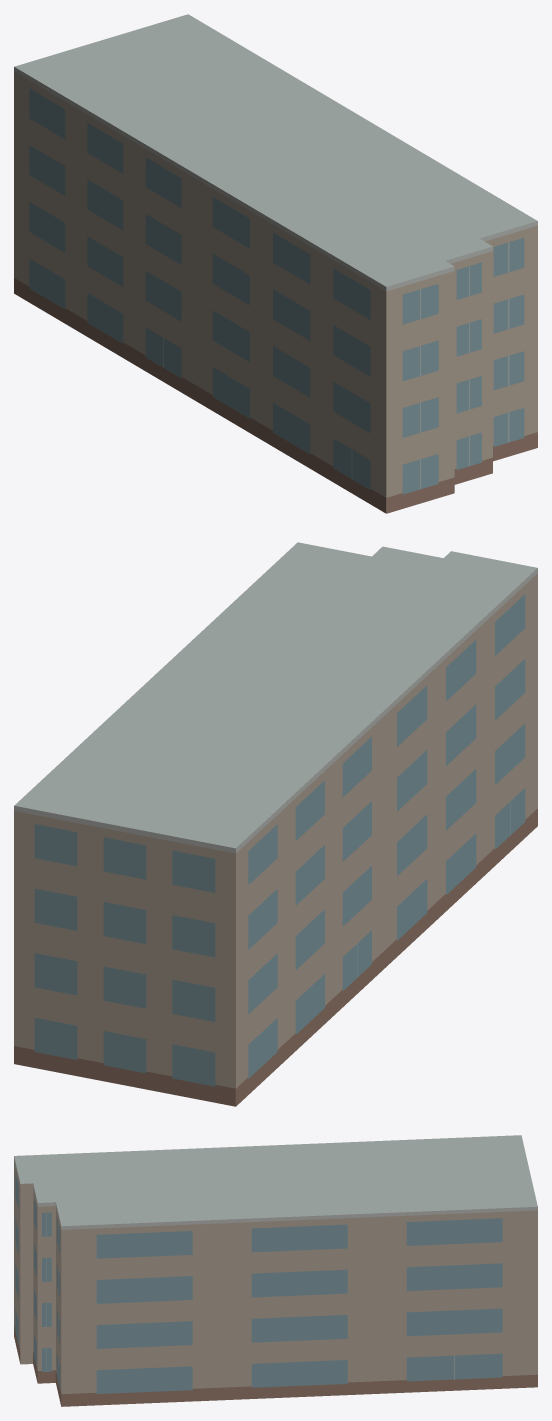
The model's file is residential-3db67e10-c1f7-46e1-94a3-698d9ae515b5.glb.
The picture shows the model from 3 angles, top to bottom: view 1: azimuth 30°, elevation 25°; view 2: azimuth 150°, elevation 25°; view 3: azimuth 270°, elevation 25°; orthographic projection. The views are drawn at different scales.
Parts seen in each view (by area): view 1: residential-3db67e10-c1f7-46e1-94a3-698d9ae515b5.tmp; view 2: residential-3db67e10-c1f7-46e1-94a3-698d9ae515b5.tmp; view 3: residential-3db67e10-c1f7-46e1-94a3-698d9ae515b5.tmp.
Part boxes in pixels (x1=…): residential-3db67e10-c1f7-46e1-94a3-698d9ae515b5.tmp: x1=14, y1=14, x2=537, y2=513; residential-3db67e10-c1f7-46e1-94a3-698d9ae515b5.tmp: x1=14, y1=542, x2=537, y2=1106; residential-3db67e10-c1f7-46e1-94a3-698d9ae515b5.tmp: x1=14, y1=1135, x2=537, y2=1406.
Bounding box in the file's own units: 13.22 × 12.2 × 32.09.
